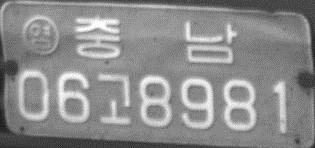0: (18, 68, 50, 123)
1: (264, 80, 297, 134)
6: (56, 70, 92, 124)
8: (137, 73, 174, 129), (221, 77, 258, 131)
9: (179, 76, 215, 130)
고: (95, 73, 133, 125)
영: (21, 14, 59, 57)
충남_D: (74, 14, 237, 64)
